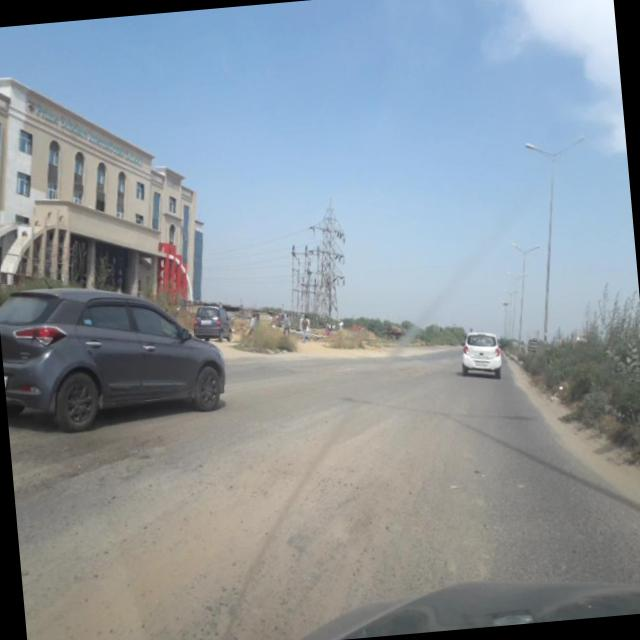pothole: (15, 416, 186, 501)
